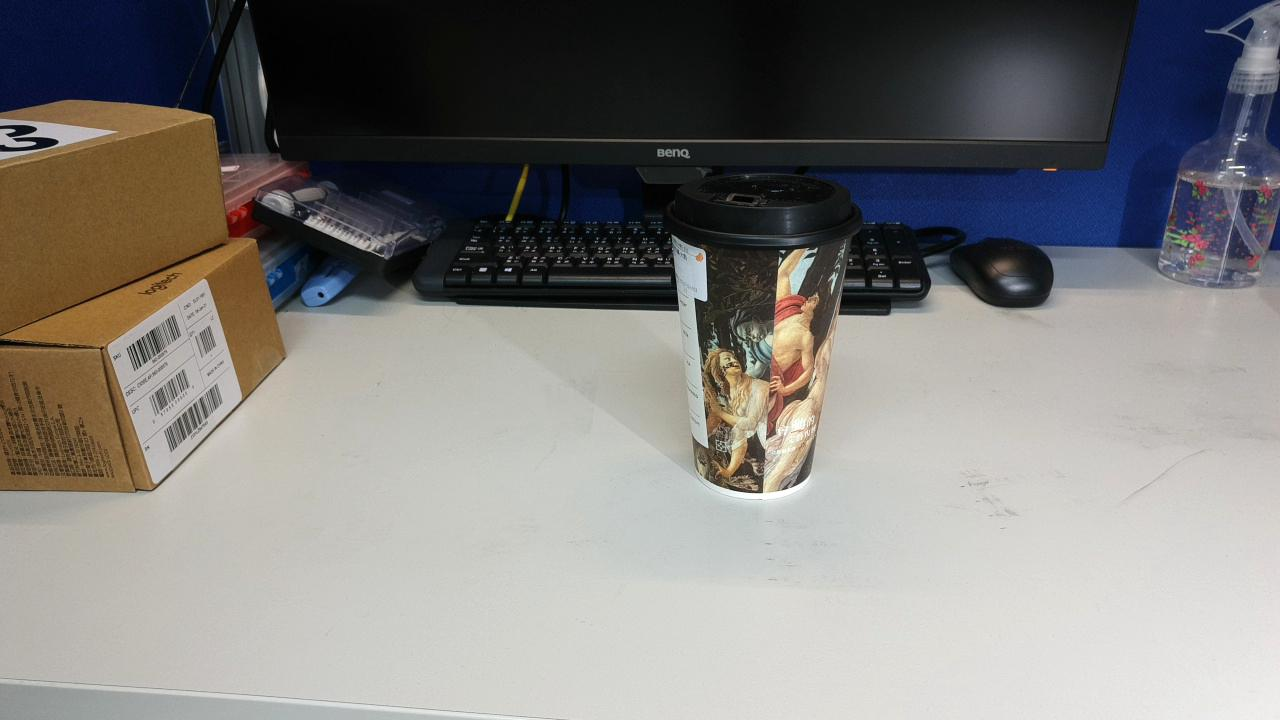long: (764, 298, 924, 404)
